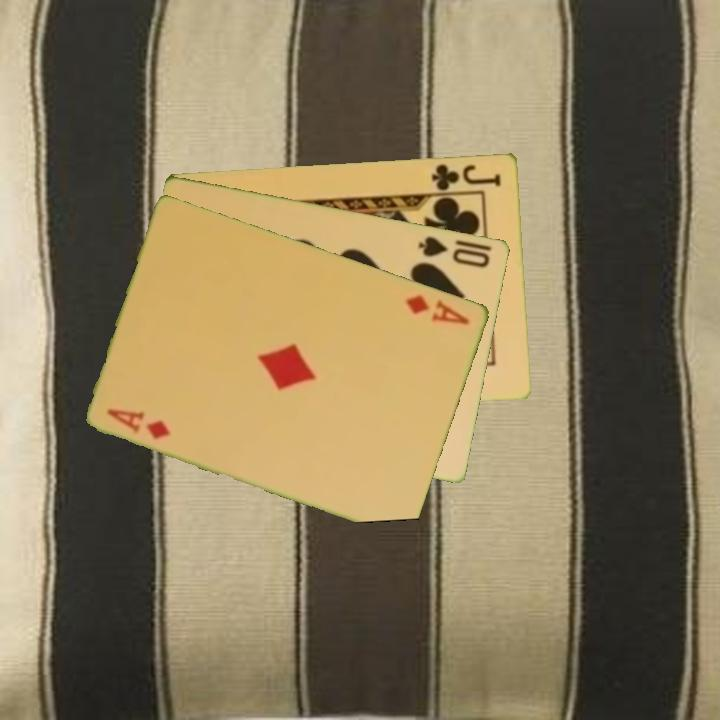10s: (415, 232, 493, 271)
Ad: (402, 290, 473, 328), (104, 405, 174, 442)
Jc: (428, 160, 504, 193)
